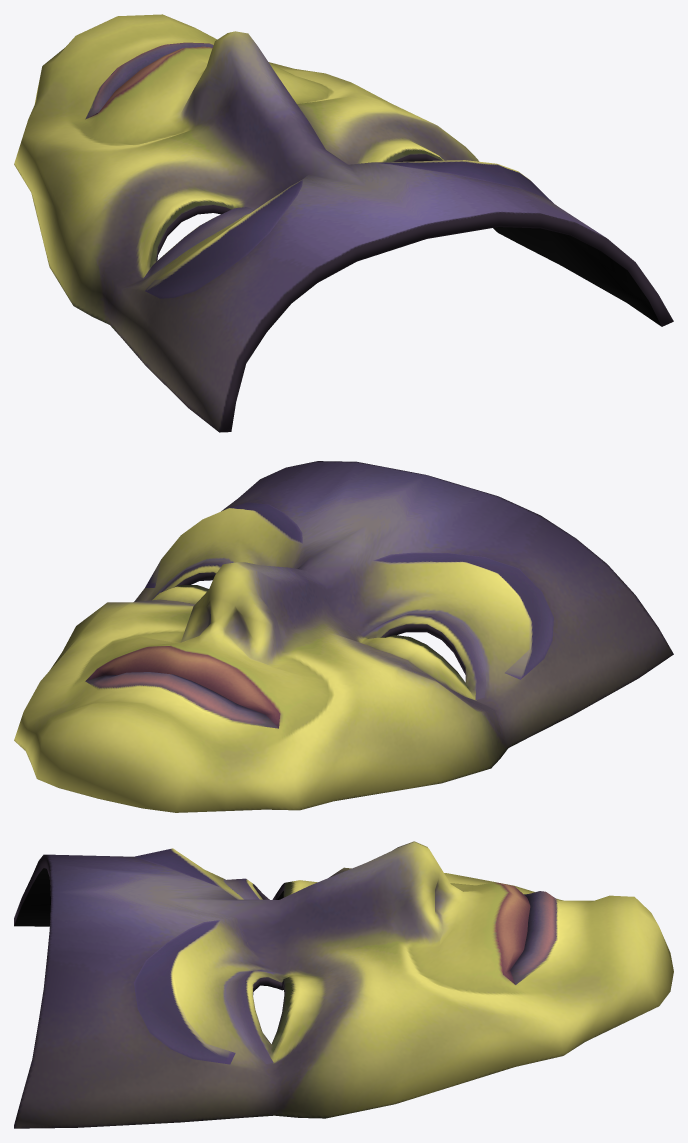
The model's file is anim1_000122.obj.
3 views of the same model, one above another, from view 1: azimuth 30°, elevation 25°; view 2: azimuth 150°, elevation 25°; view 3: azimuth 270°, elevation 25° (orthographic). The views are drawn at different scales.
Parts seen in each view (by area): view 1: 151out; view 2: 151out; view 3: 151out.
Boxes of the visible parts, <box> form: 151out: <box>14,14,673,432</box>; 151out: <box>14,461,673,812</box>; 151out: <box>14,841,673,1128</box>.
Size of the model in its own units: 4.16 by 1.69 by 5.52.
